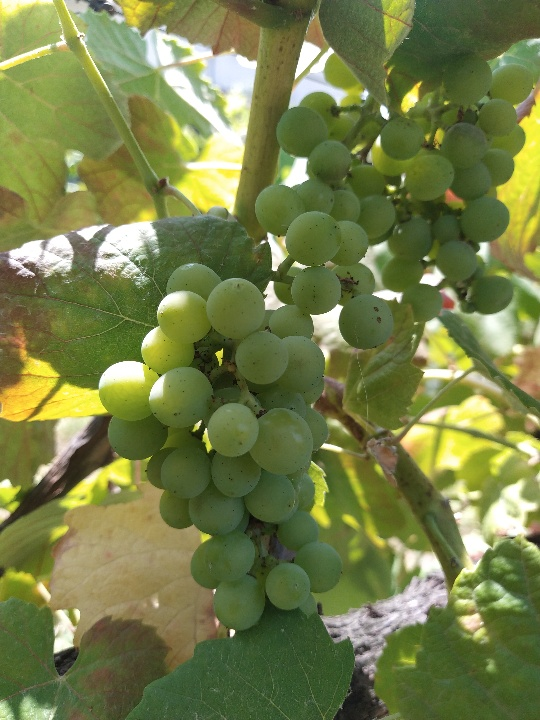grape: (97, 261, 343, 632), (254, 92, 446, 354)
